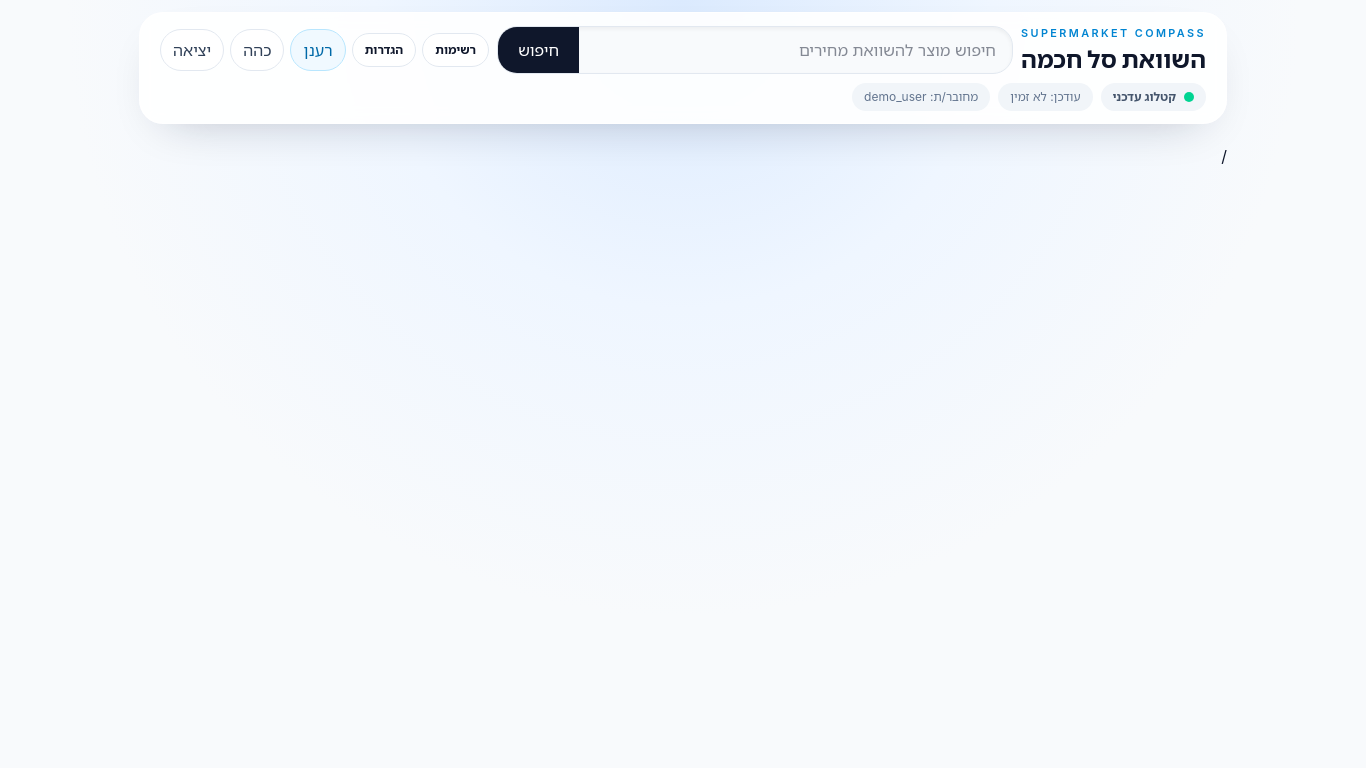
Test case: AppShell › asks for confirmation before starting a new catalog refresh
The image size is (1366, 768).
Click the button named "רענן קטלוג" at coordinates (318, 50), box [290,29,346,71]
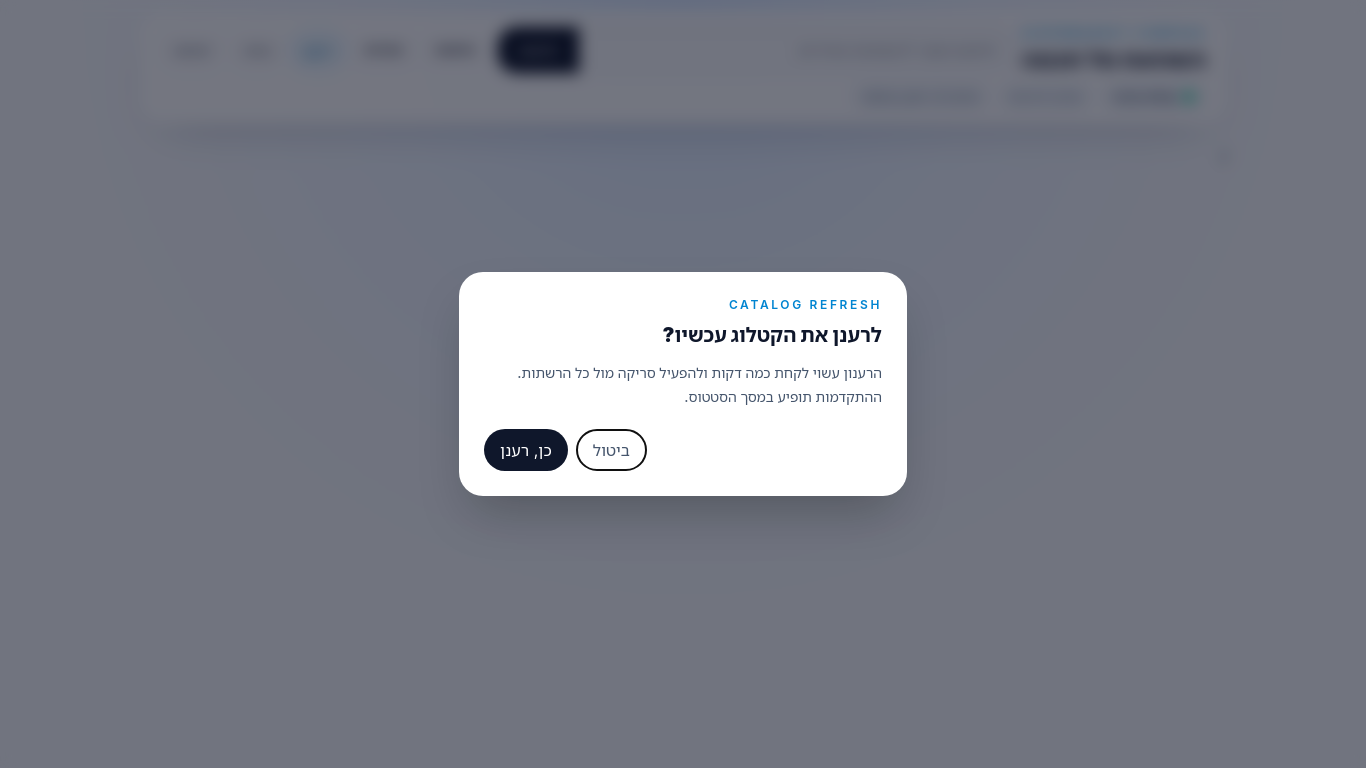
Expected: the dialog "לרענן את הקטלוג עכשיו?" is shown, [459,272,907,496]
Click the button "כן, רענן" at coordinates (526, 450), box [484,429,568,471]
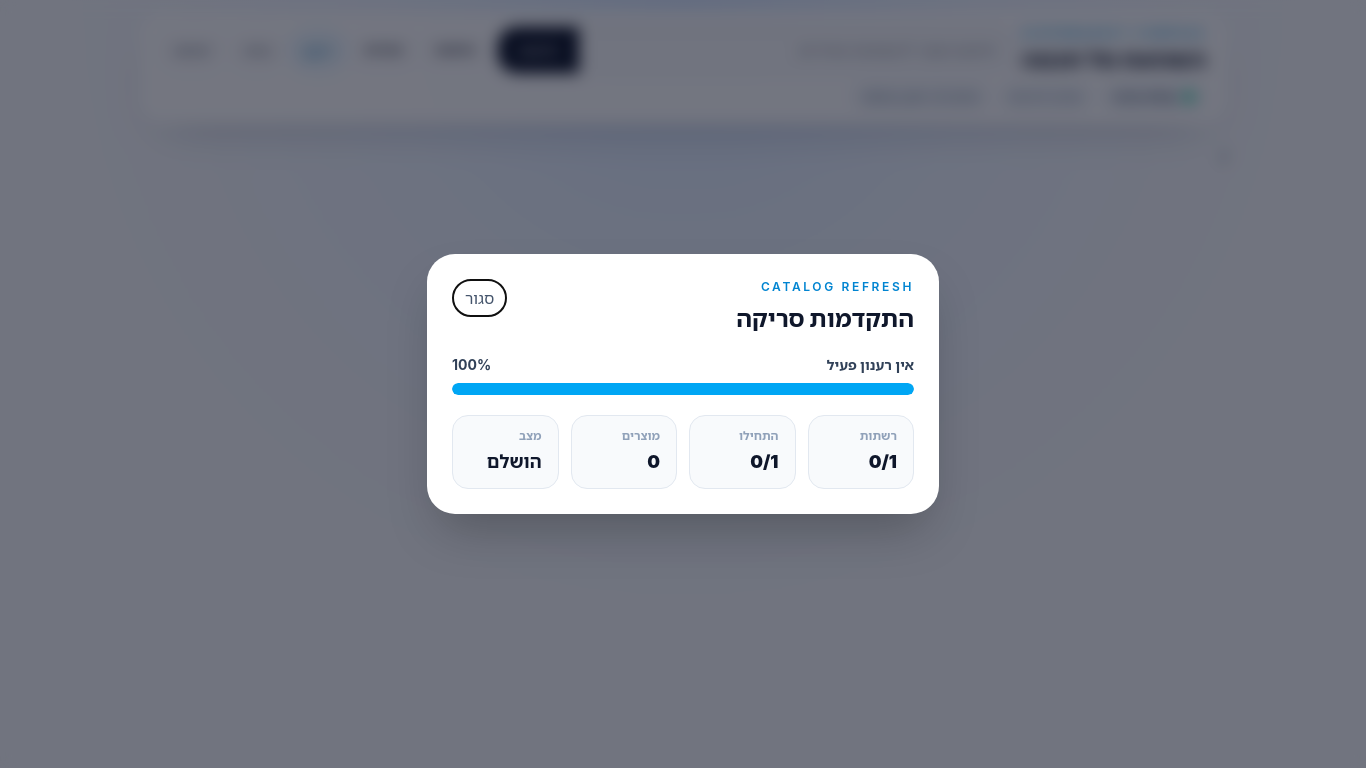
Expected: the heading "לרענן את הקטלוג עכשיו?" is gone
